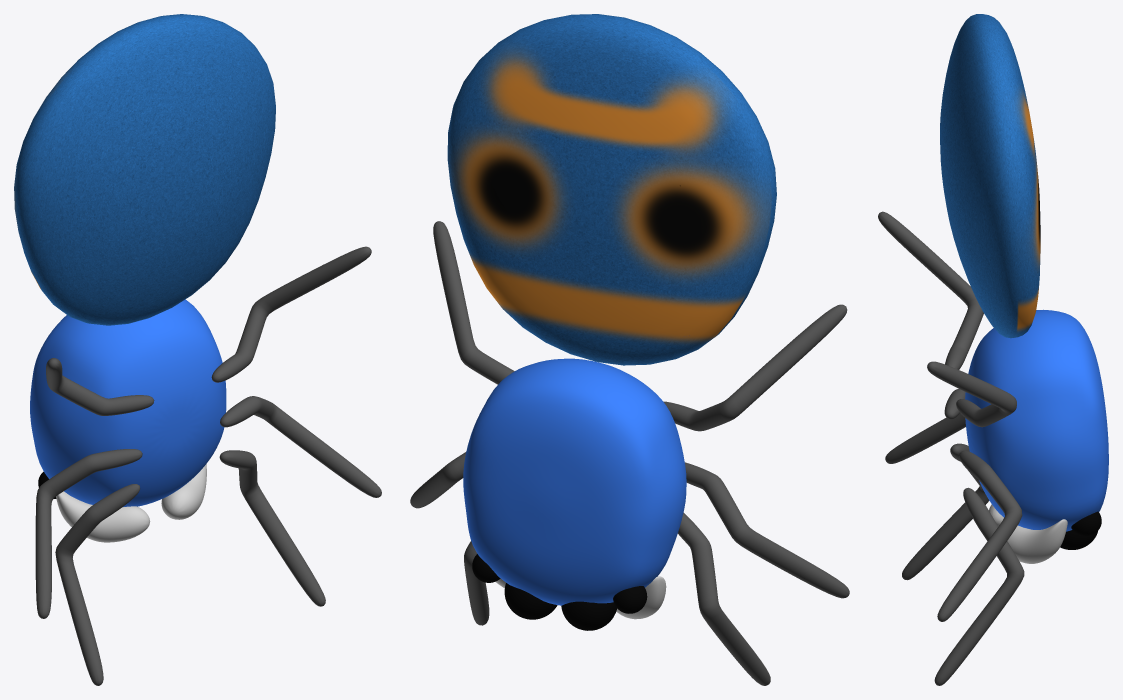
Rendered from Spider72.glb.
3 renders of one model, left to right at view 1: azimuth 30°, elevation 25°; view 2: azimuth 150°, elevation 25°; view 3: azimuth 270°, elevation 25°, orthographic. The views are drawn at different scales.
Parts seen in each view (by area): view 1: Butt, Head, Leg.001, Leg.003, Leg.004, Leg.002, Leg, Leg.005, Pincer.001, Pincer; view 2: Butt, Head, Leg.005, Leg.003, Leg.001, Leg.004, Leg.002, Eye, Leg, Eye.001, Pincer.001, Eye.002; view 3: Butt, Head, Leg, Leg.002, Leg.005, Leg.004, Leg.001, Leg.003, Pincer, Eye.003, Eye.001.
Part boxes in pixels (x1=…): Butt: x1=14, y1=14, x2=275, y2=325; Head: x1=30, y1=299, x2=226, y2=506; Leg.001: x1=55, y1=484, x2=140, y2=685; Leg.003: x1=35, y1=449, x2=142, y2=618; Leg.004: x1=211, y1=246, x2=371, y2=382; Leg.002: x1=220, y1=396, x2=381, y2=497; Leg: x1=219, y1=450, x2=325, y2=606; Leg.005: x1=46, y1=358, x2=154, y2=415; Pincer.001: x1=56, y1=491, x2=150, y2=542; Pincer: x1=161, y1=464, x2=206, y2=519; Butt: x1=447, y1=14, x2=776, y2=365; Head: x1=463, y1=358, x2=686, y2=605; Leg.005: x1=663, y1=304, x2=847, y2=431; Leg.003: x1=685, y1=462, x2=849, y2=598; Leg.001: x1=678, y1=512, x2=770, y2=685; Leg.004: x1=433, y1=221, x2=514, y2=384; Leg.002: x1=410, y1=452, x2=465, y2=508; Eye: x1=561, y1=601, x2=616, y2=630; Leg: x1=464, y1=541, x2=489, y2=625; Eye.001: x1=504, y1=583, x2=557, y2=619; Pincer.001: x1=616, y1=576, x2=666, y2=619; Eye.002: x1=613, y1=586, x2=647, y2=613; Butt: x1=940, y1=14, x2=1040, y2=338; Head: x1=965, y1=309, x2=1108, y2=531; Leg: x1=934, y1=487, x2=1024, y2=685; Leg.002: x1=937, y1=450, x2=1022, y2=621; Leg.005: x1=878, y1=211, x2=983, y2=369; Leg.004: x1=927, y1=361, x2=1016, y2=427; Leg.001: x1=902, y1=443, x2=989, y2=580; Leg.003: x1=885, y1=389, x2=965, y2=463; Pincer: x1=1007, y1=519, x2=1067, y2=563; Eye.003: x1=1071, y1=511, x2=1101, y2=536; Eye.001: x1=1060, y1=530, x2=1097, y2=549.
Size of the model in its own units: 0.3282 by 0.519 by 0.1822.
5 materials, 1 textured.
